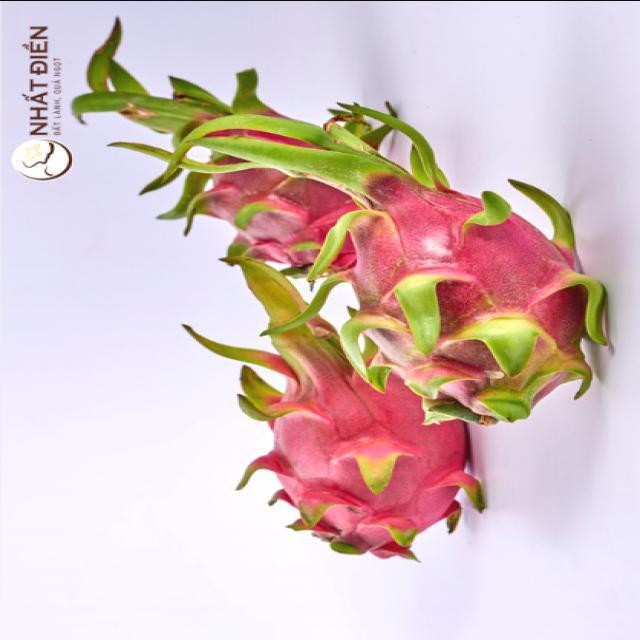trang: (194, 112, 610, 424), (180, 249, 474, 565), (66, 12, 401, 278)
